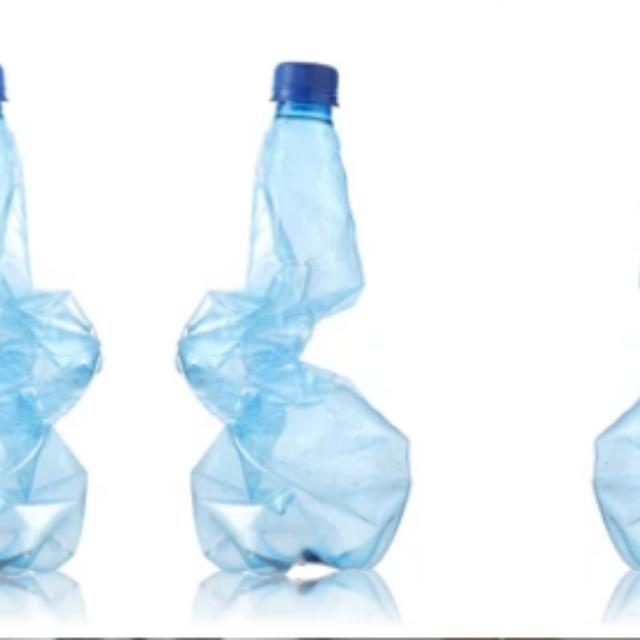Plastic: (138, 24, 414, 618), (0, 23, 138, 618), (589, 23, 640, 618)
